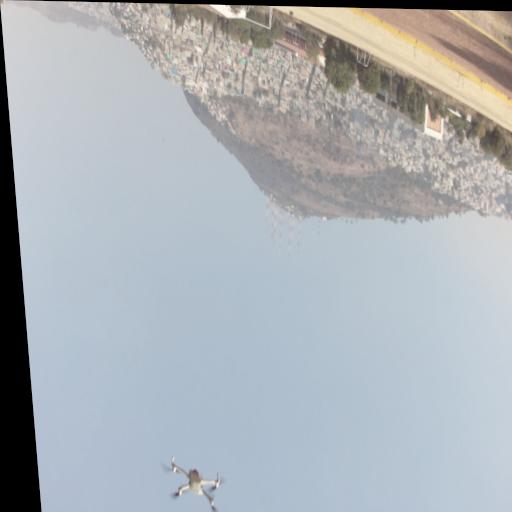drones: (158, 453, 231, 512)
